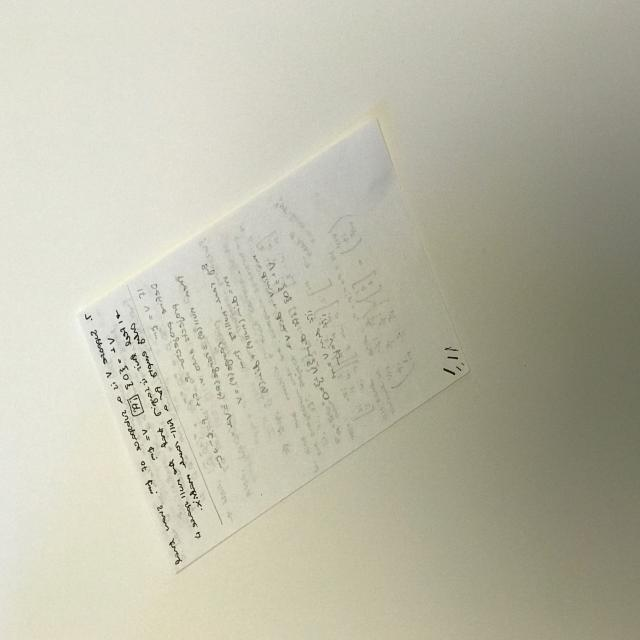paper: (60, 74, 476, 564)
